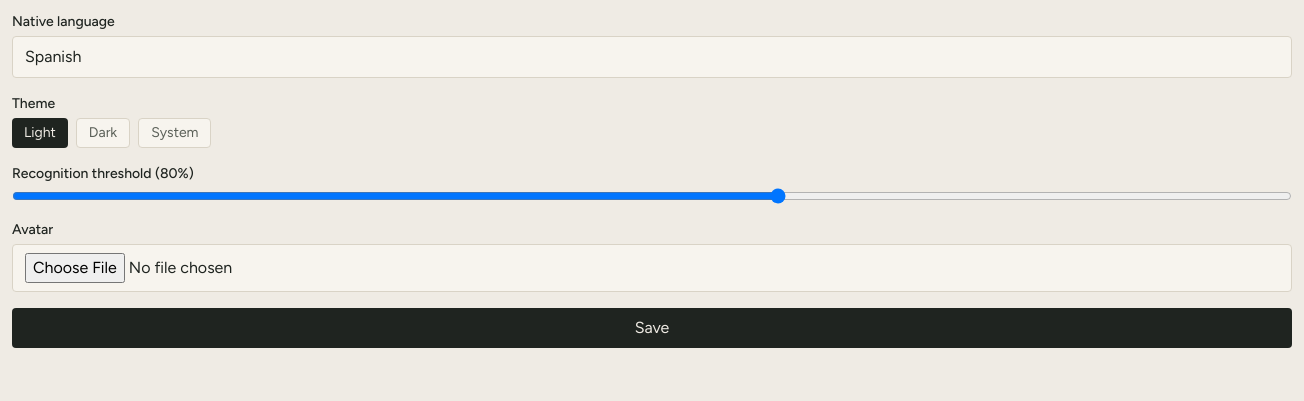
SettingsForm › shows the API error message when the settings PATCH fails
The image size is (1304, 401).
Click the button "Save". click: (652, 328)
box: [12,308,1292,348]
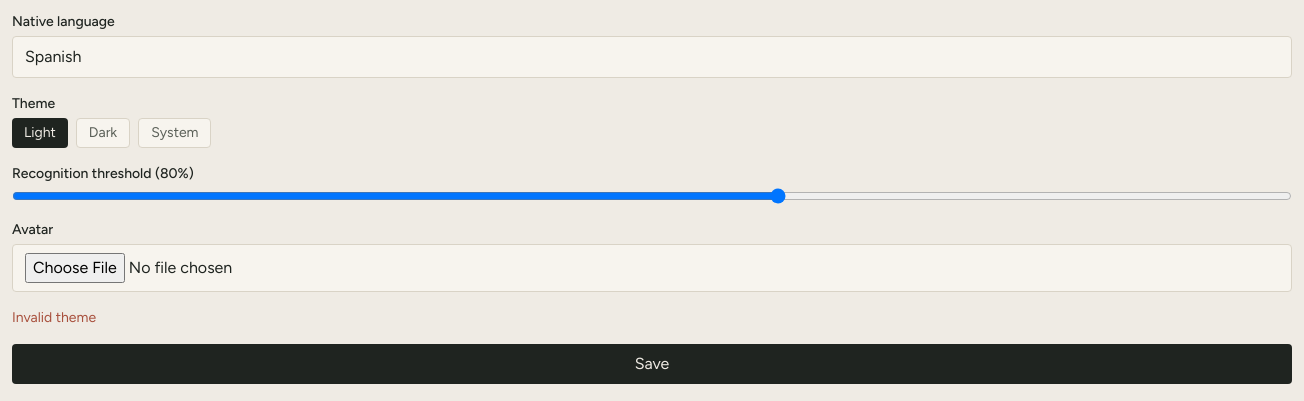
Check: the text "Invalid theme" is shown, box [12,309,96,326]
